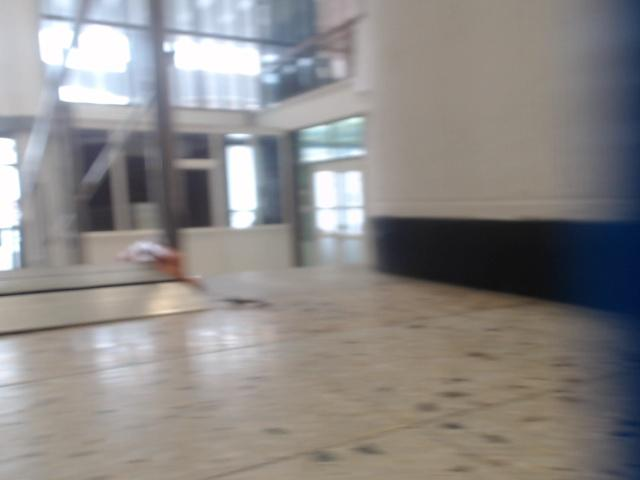rampDown: (0, 242, 207, 334)
ramps-railing: (80, 0, 180, 247), (38, 0, 92, 129)
